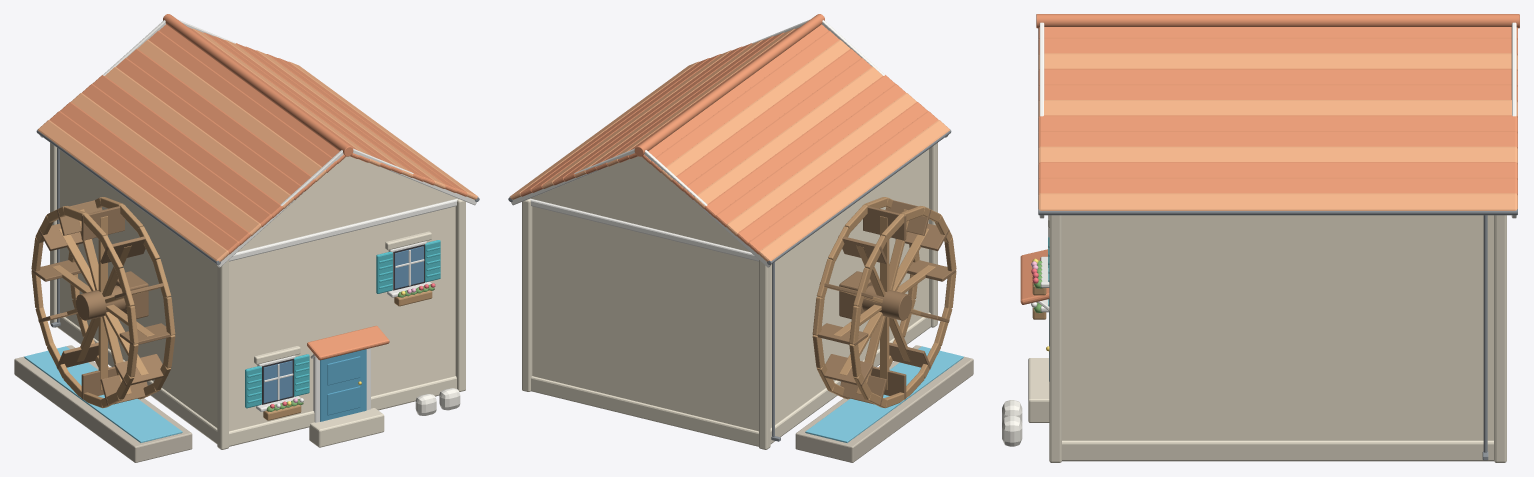
Rendered from mill.fbx.
3 views of the same model, side by side, from view 1: azimuth 30°, elevation 25°; view 2: azimuth 150°, elevation 25°; view 3: azimuth 270°, elevation 25° (orthographic). The views are drawn at different scales.
Parts seen in each view (by area): view 1: Visual, Spin_X; view 2: Visual, Spin_X; view 3: Visual.
Boxes of the visible parts, x1,y1,x2,y2 form: Visual: [14, 14, 479, 462]; Spin_X: [31, 197, 175, 408]; Visual: [508, 14, 973, 462]; Spin_X: [812, 197, 956, 408]; Visual: [1002, 14, 1519, 462].
Size of what is drawn, in the model's own units: 1202 by 1072 by 1285.
